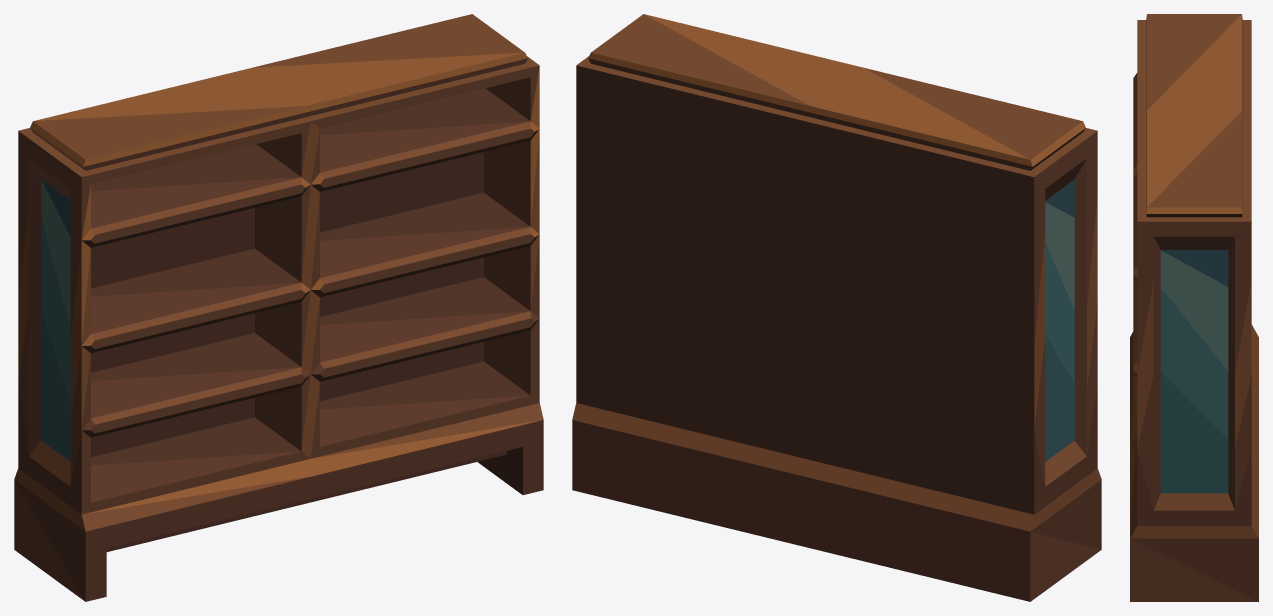
File: cabinet_behind_bar_desk.fbx
3 views of the same model, side by side, from view 1: azimuth 30°, elevation 25°; view 2: azimuth 150°, elevation 25°; view 3: azimuth 270°, elevation 25° (orthographic). The views are drawn at different scales.
Parts seen in each view (by area): view 1: cabinet_behind_bar_desk; view 2: cabinet_behind_bar_desk; view 3: cabinet_behind_bar_desk.
Part boxes in pixels (x1,y1,x2,y2): cabinet_behind_bar_desk: [14, 14, 543, 601]; cabinet_behind_bar_desk: [572, 14, 1101, 601]; cabinet_behind_bar_desk: [1130, 14, 1258, 601].
Size of the model in its own units: 250 by 226 by 67.45.
